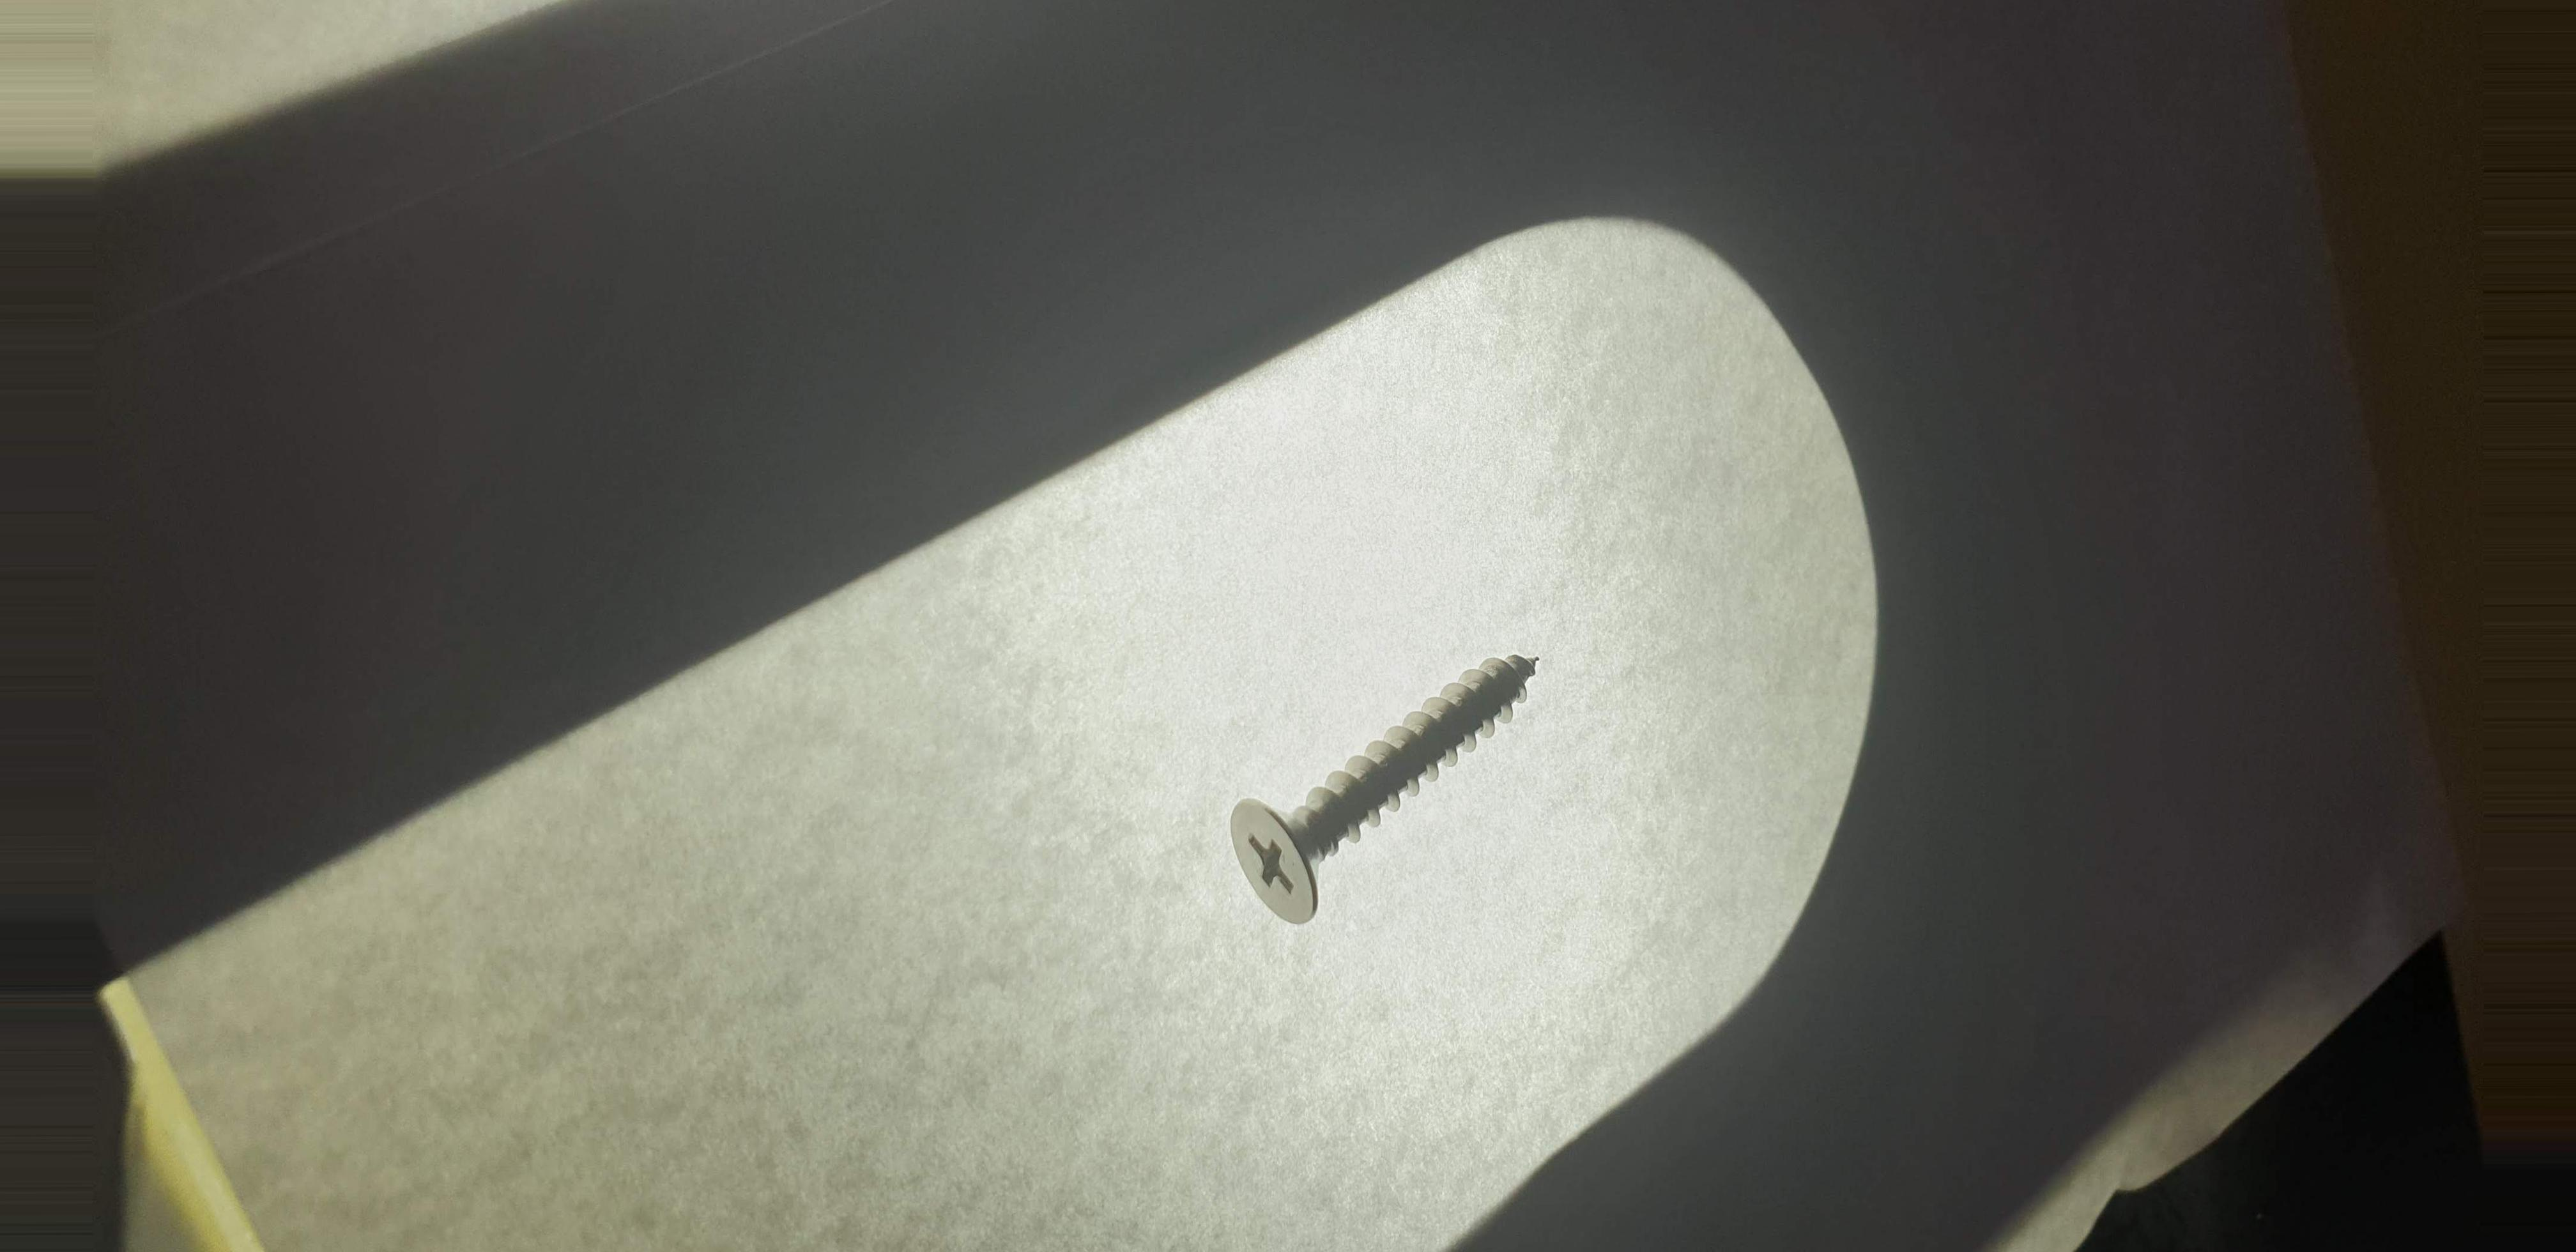S004: (1191, 610, 1556, 955)
